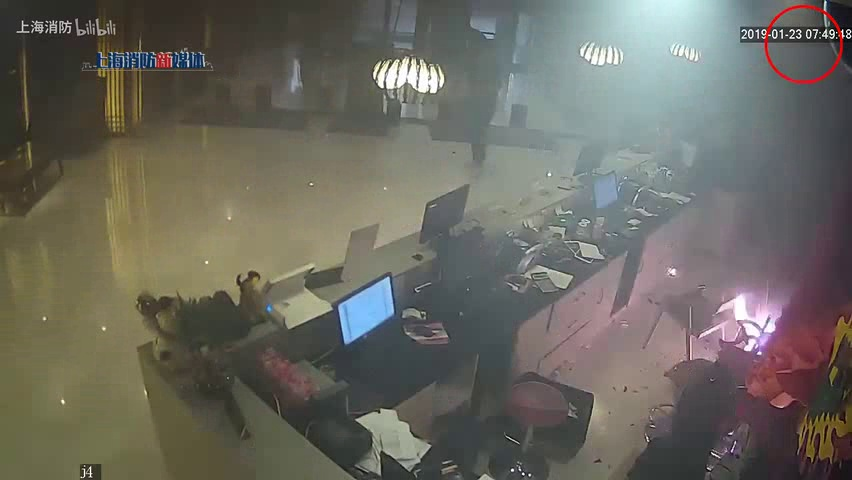fire: (730, 288, 783, 355)
